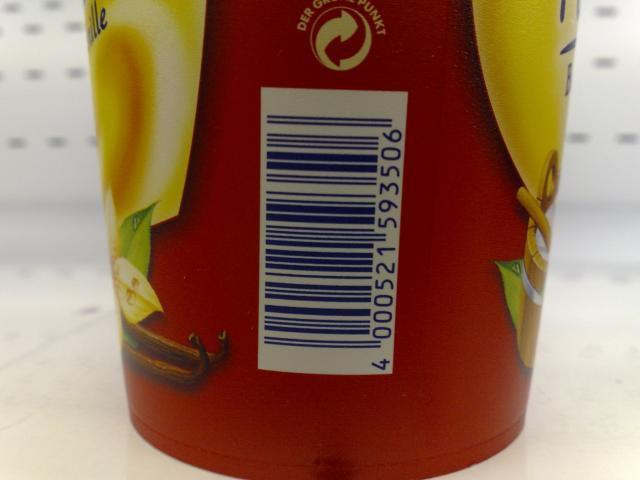Barcode: (258, 86, 408, 377)
